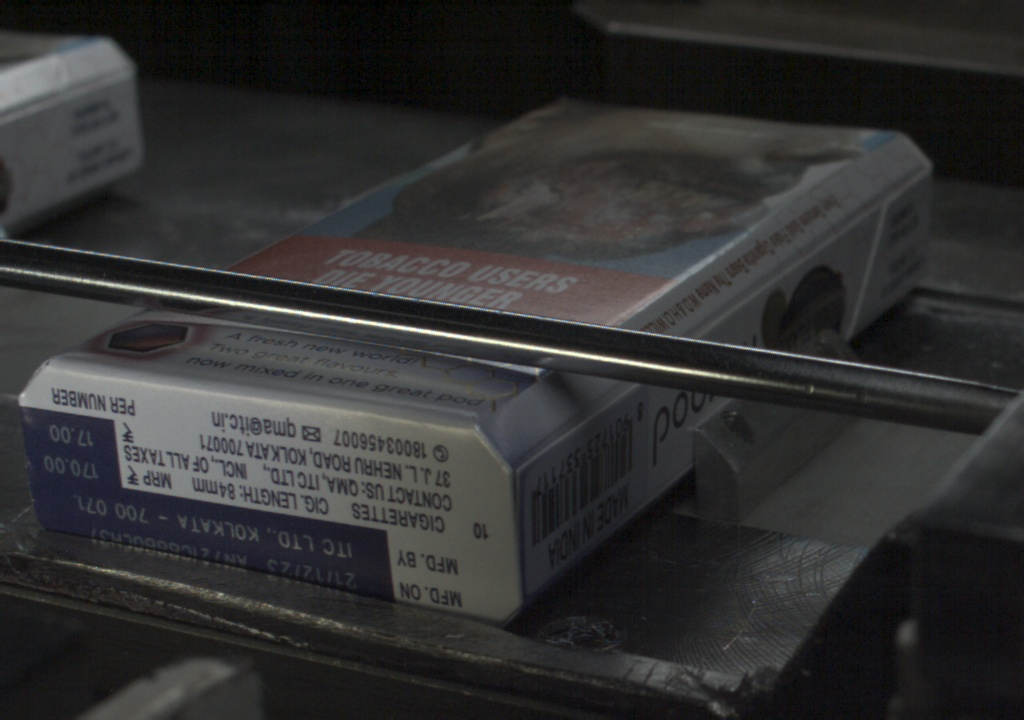g_bottom: (19, 370, 521, 625)
g_label: (33, 483, 393, 592)
g_lmiter: (696, 266, 795, 335), (793, 207, 878, 265), (565, 387, 636, 438), (517, 426, 580, 475)
g_miter: (883, 163, 937, 208)
price: (23, 416, 118, 482)
